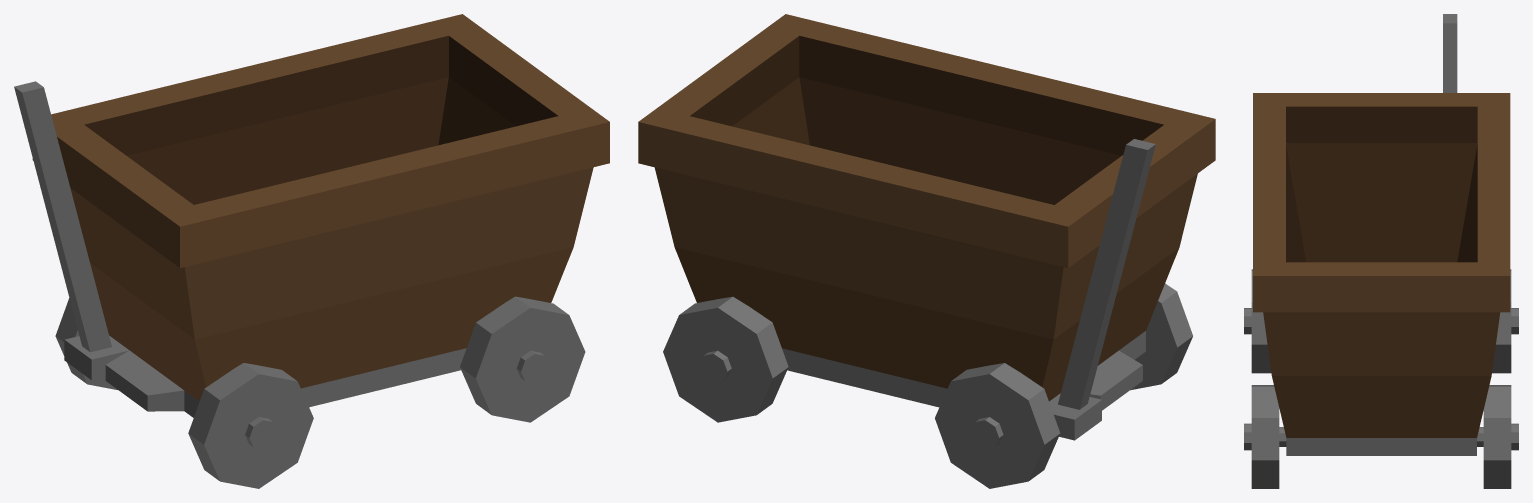
Rendered from Mine_Cart_01.fbx.
The picture shows the model from 3 angles, left to right: view 1: azimuth 30°, elevation 25°; view 2: azimuth 150°, elevation 25°; view 3: azimuth 270°, elevation 25°; orthographic projection. The views are drawn at different scales.
Parts seen in each view (by area): view 1: Mine_Cart_01; view 2: Mine_Cart_01; view 3: Mine_Cart_01.
Part boxes in pixels (box(x1,y1,x2,y2)): Mine_Cart_01: box(14, 14, 609, 488); Mine_Cart_01: box(638, 14, 1215, 488); Mine_Cart_01: box(1244, 14, 1518, 488).
Size of the model in its own units: 58.01 by 40.18 by 33.01.
